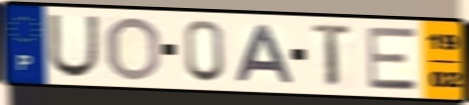0: (182, 18, 227, 84)
A: (233, 23, 298, 85)
E: (364, 26, 422, 92)
O: (104, 15, 163, 83)
T: (310, 21, 356, 90)
U: (47, 12, 102, 80)
